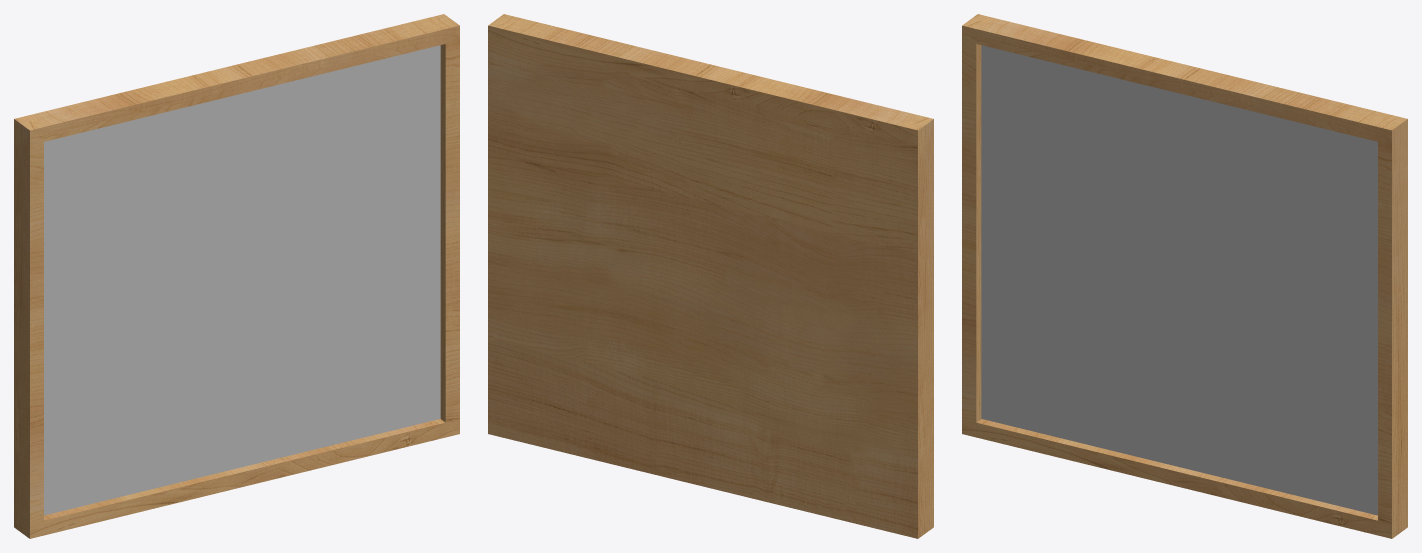
The model's file is Picture 9.fbx.
3 renders of one model, left to right at view 1: azimuth 30°, elevation 25°; view 2: azimuth 150°, elevation 25°; view 3: azimuth 330°, elevation 25°, orthographic.
Parts seen in each view (by area): view 1: picture 9; view 2: picture 9; view 3: picture 9.
Part boxes in pixels (left/top/right/bottom): picture 9: left=14, top=14, right=459, bottom=538; picture 9: left=488, top=14, right=933, bottom=538; picture 9: left=962, top=14, right=1407, bottom=538.
Bounding box in the file's own units: 113 × 103 × 7.19.
